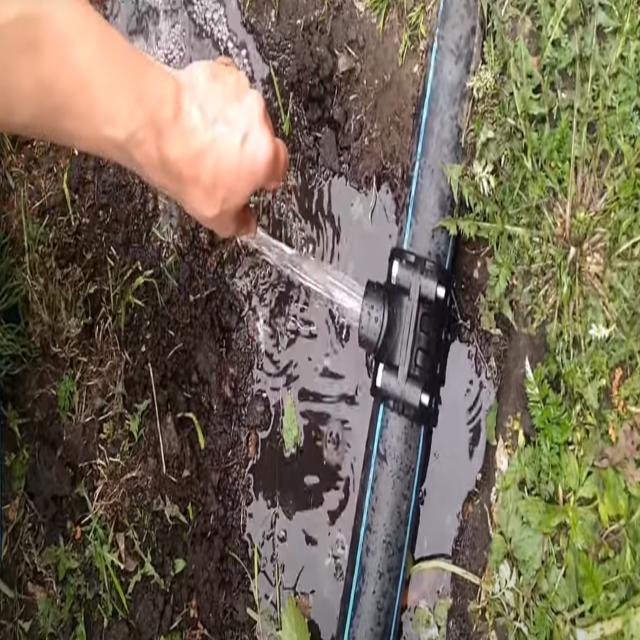leak: (241, 228, 364, 326)
